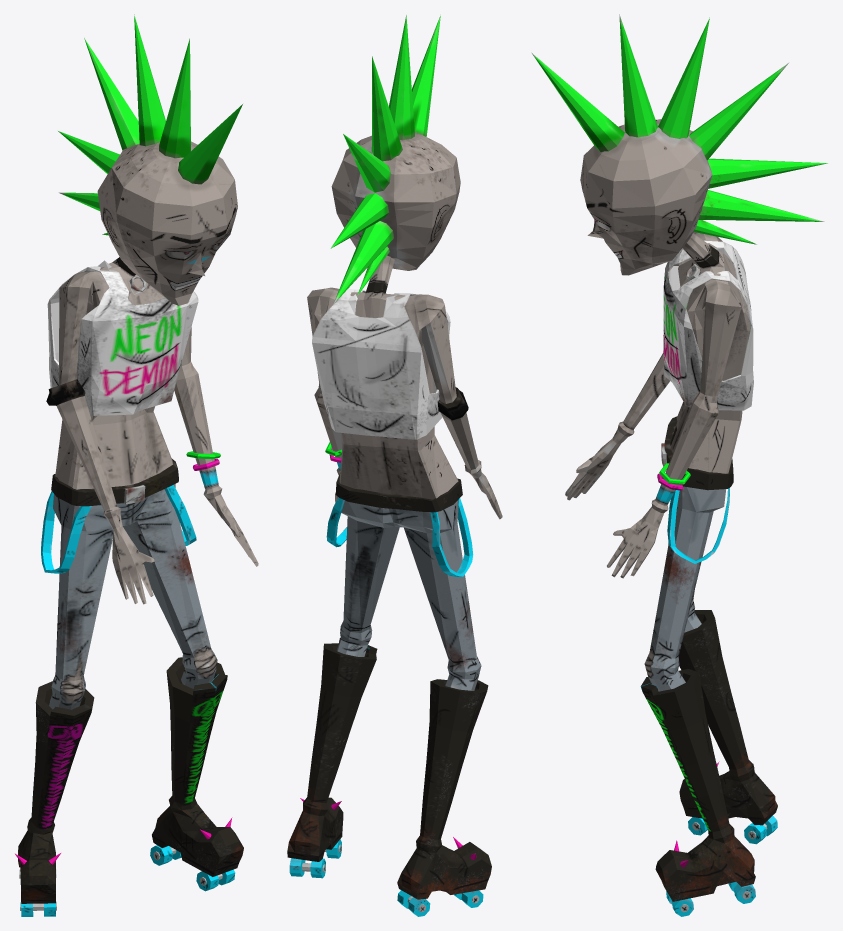
The model's file is punkAnimation_000048.obj.
3 renders of one model, left to right at view 1: azimuth 30°, elevation 25°; view 2: azimuth 150°, elevation 25°; view 3: azimuth 270°, elevation 25°, orthographic. The views are drawn at different scales.
Parts seen in each view (by area): view 1: Cube.004_Cube.003; view 2: Cube.004_Cube.003; view 3: Cube.004_Cube.003.
Boxes of the visible parts, x1,y1,x2,y2 form: Cube.004_Cube.003: [15, 14, 258, 916]; Cube.004_Cube.003: [287, 14, 502, 916]; Cube.004_Cube.003: [532, 14, 827, 916].
Bounding box in the file's own units: 1.83 × 7.46 × 2.32.
